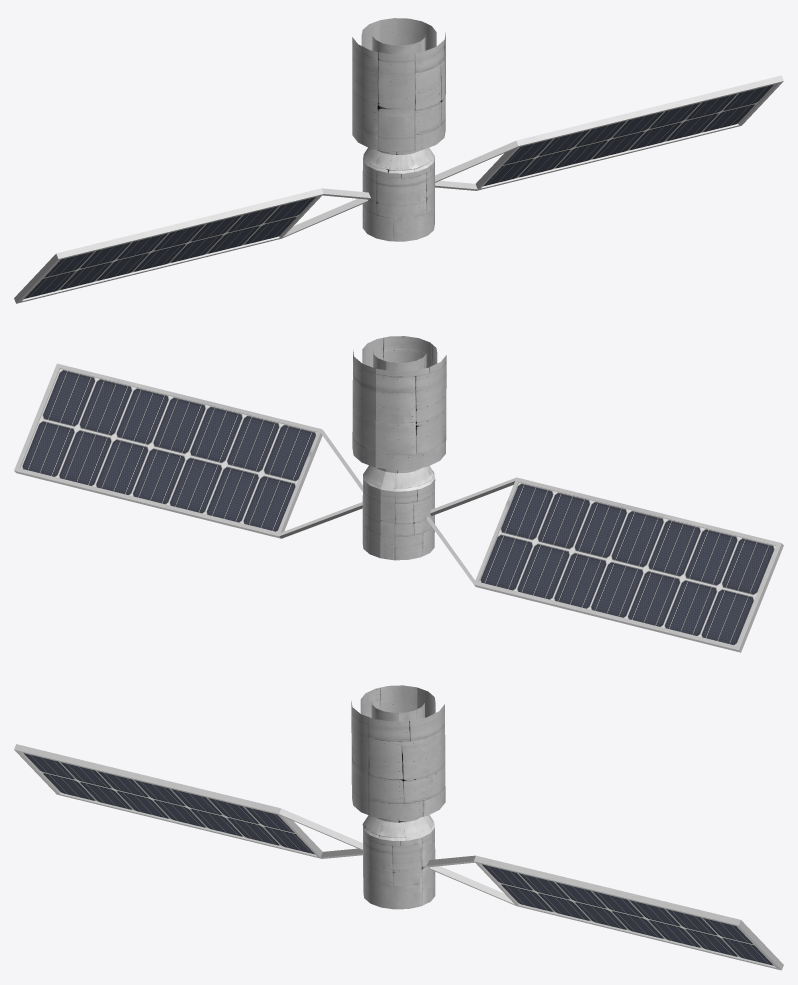
Rendered from sat3-1.gltf.
The picture shows the model from 3 angles, top to bottom: view 1: azimuth 30°, elevation 25°; view 2: azimuth 150°, elevation 25°; view 3: azimuth 330°, elevation 25°; orthographic projection.
Parts seen in each view (by area): view 1: Circle; view 2: Circle; view 3: Circle.
Boxes of the visible parts, x1,y1,x2,y2 form: Circle: (14,18,783,303); Circle: (14,336,783,652); Circle: (14,685,783,970).
Size of the model in its own units: 2302 by 598 by 262.
Materials: 2 (2 with a texture image).
